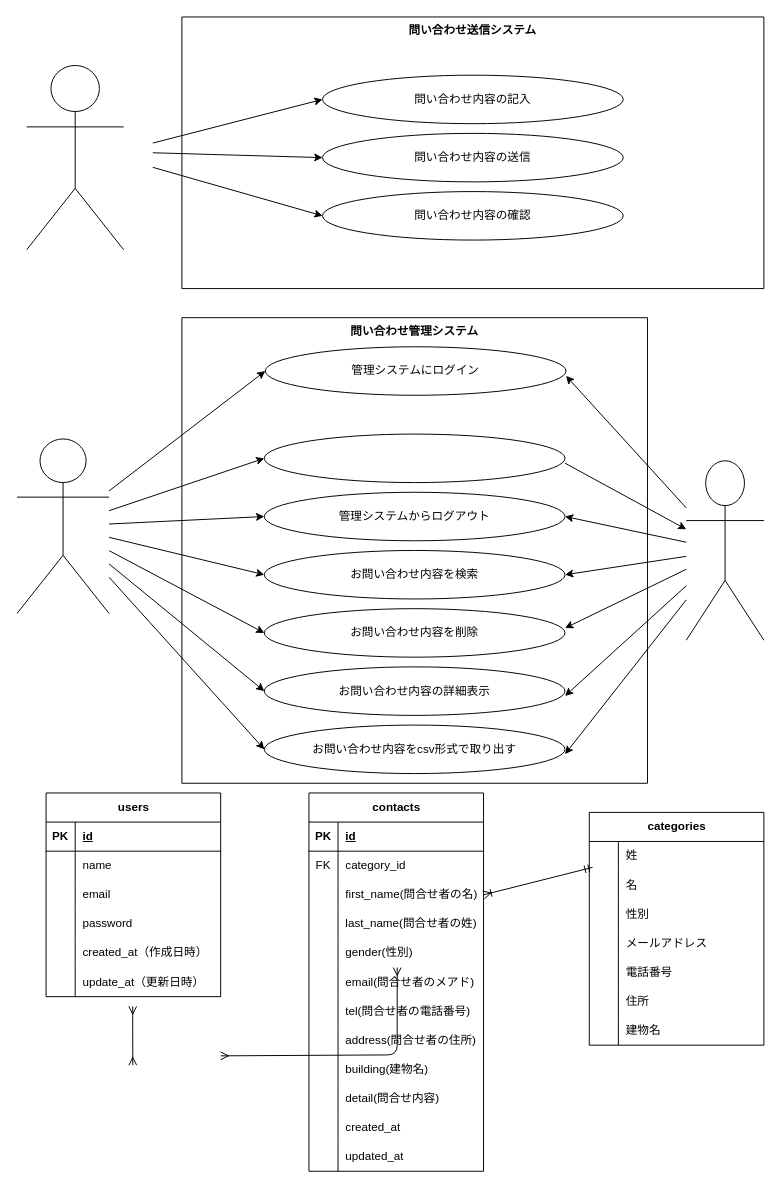
Some shapes in this 781 by 1188 pixel diagram are drawn without their labels. The centre of each missing label's shape, as x and y in pixels:
"利用者" goes at (75,157).
"新規ユーザーの作成・登録" goes at (414,458).
"新規管理者" goes at (724,550).
"管理者" goes at (62,526).
